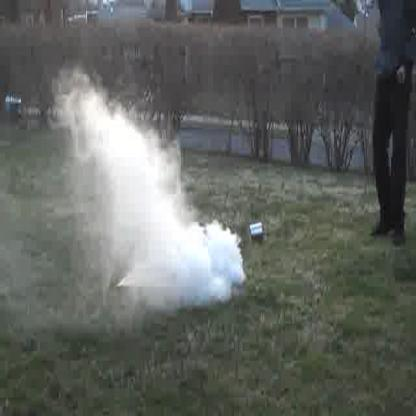Smoke: (54, 86, 242, 308)
